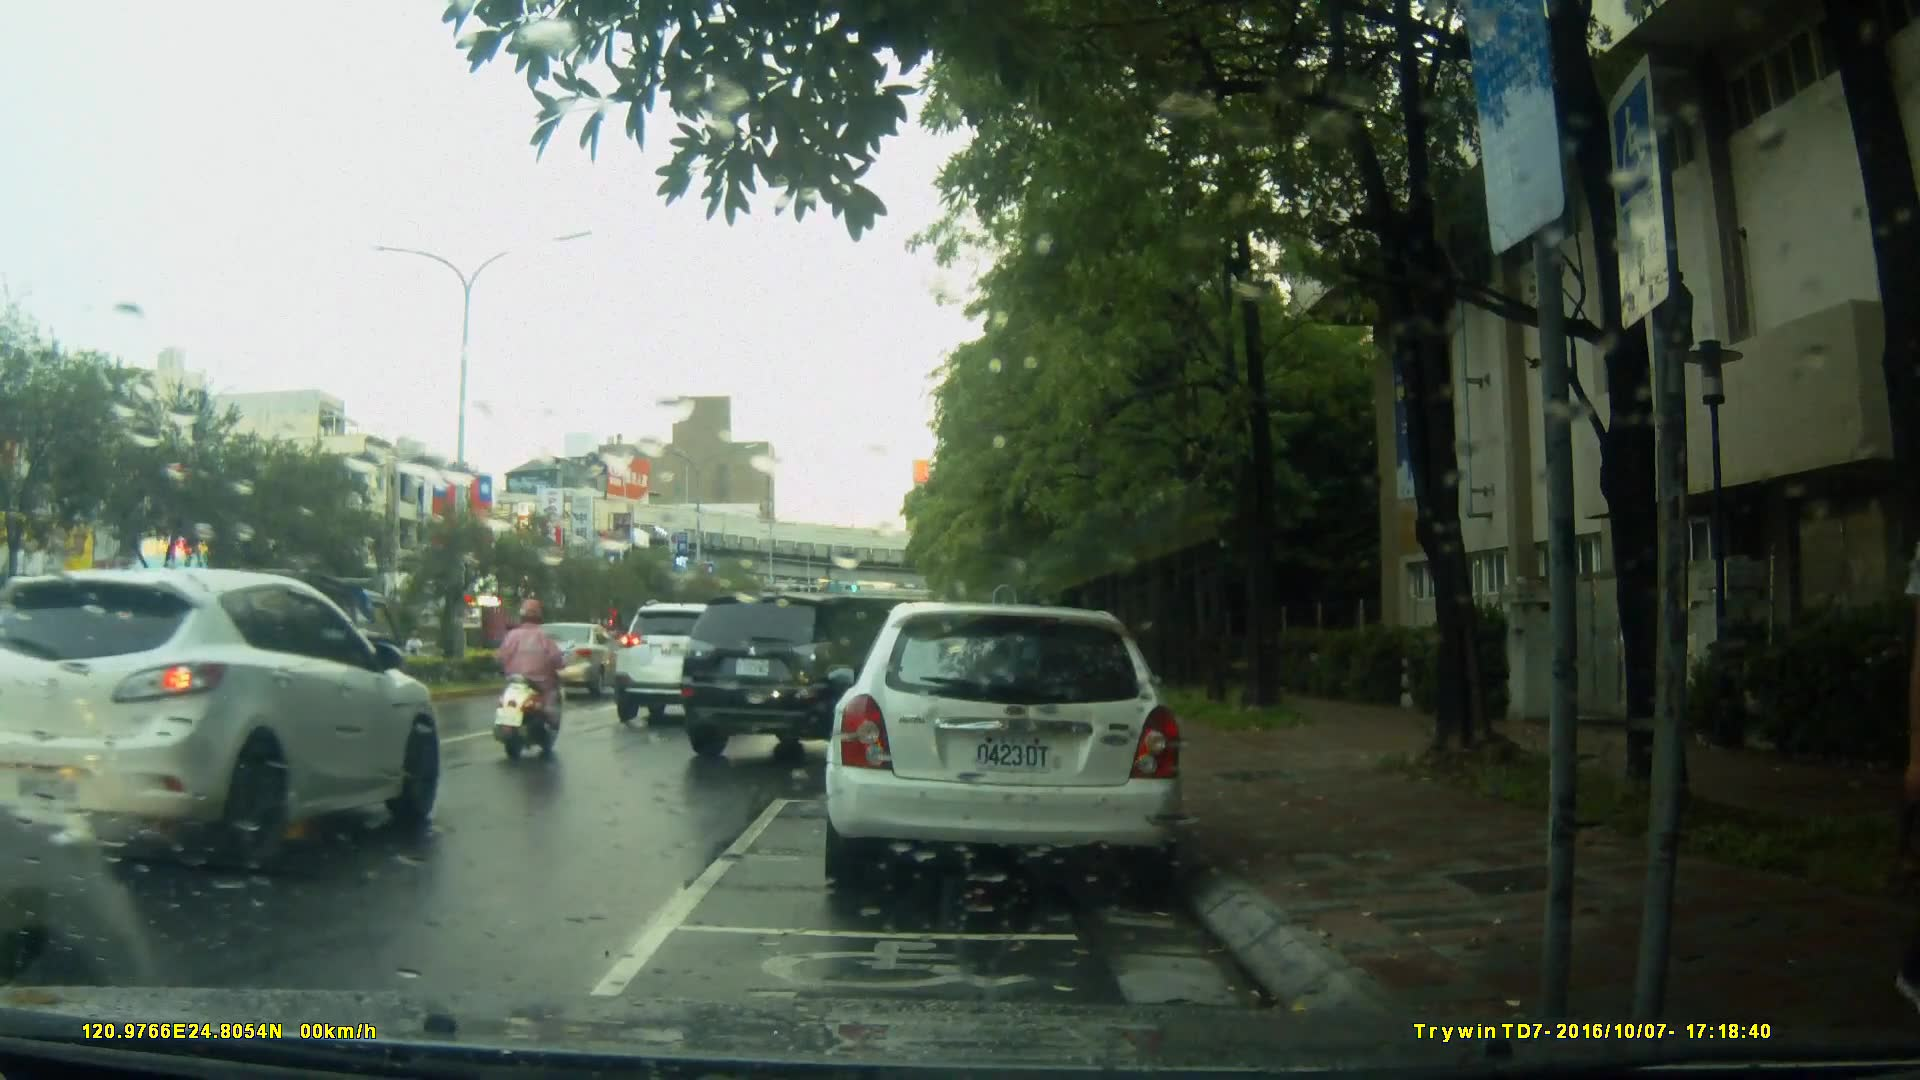rider: (496, 597, 568, 760)
vehicle: (1, 567, 458, 878), (820, 602, 1188, 898), (668, 589, 930, 763), (614, 602, 763, 725), (513, 619, 621, 701)
